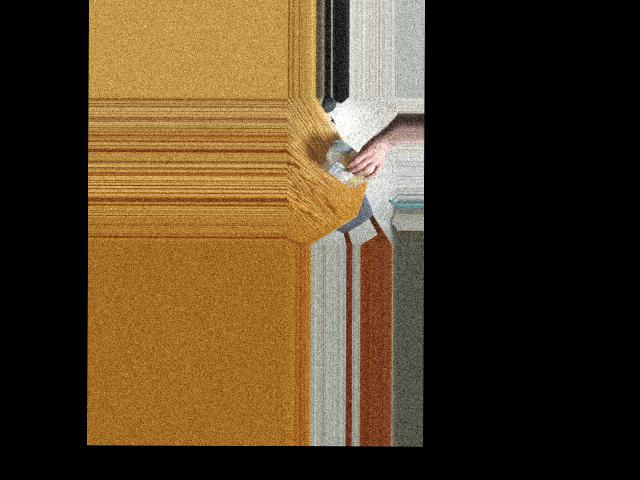cheese: (323, 142, 378, 188)
